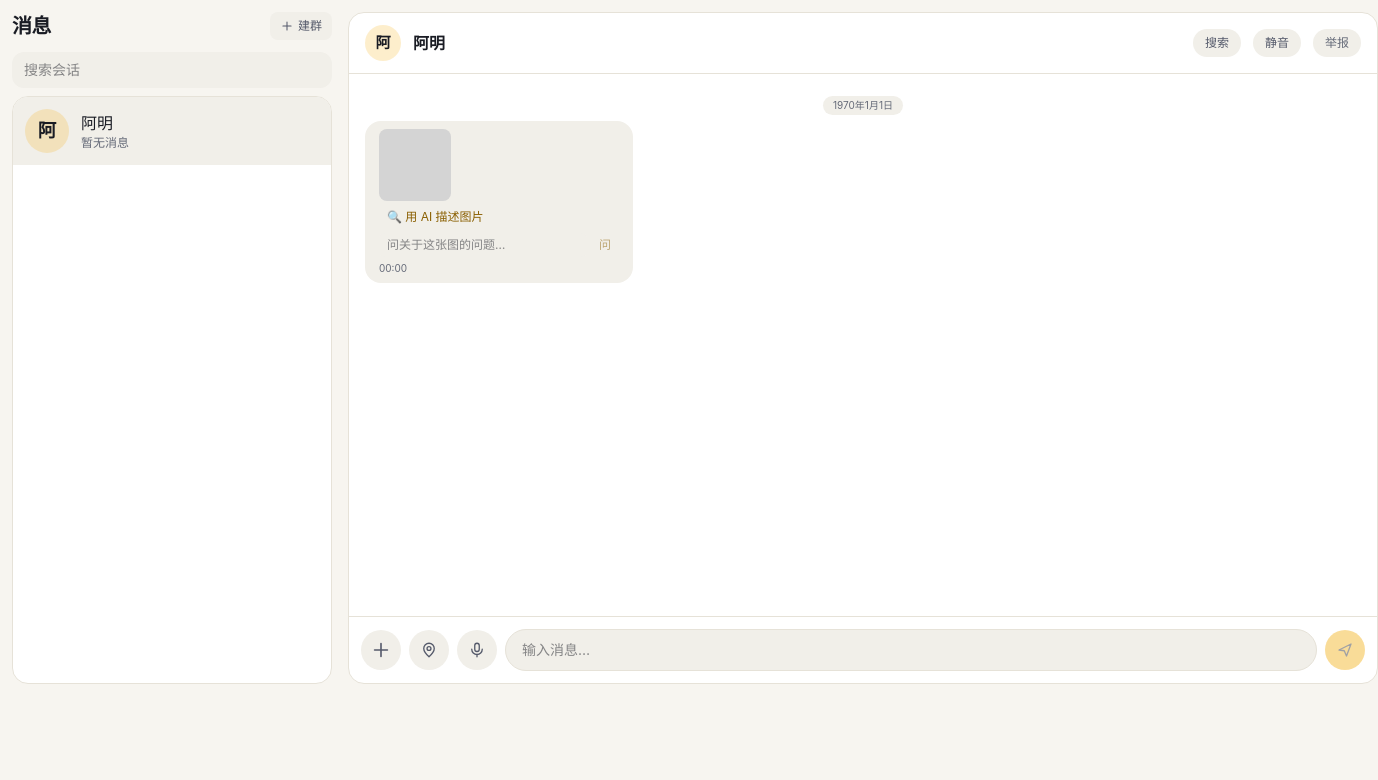
ChatPage 线程消息气泡渲染（防字段漂移：按 kind 渲染内容） › 连续追问（对话式 VQA）：第二问把首轮 Q&A 作为 history 送上，模型据上下文答追问（对标 Be My AI）
The image size is (1378, 780).
#  首轮：泛描述。
Click the button "🔍 用 AI 描述图片" at (435, 217), box top-left (379, 205), bottom-right (492, 229)
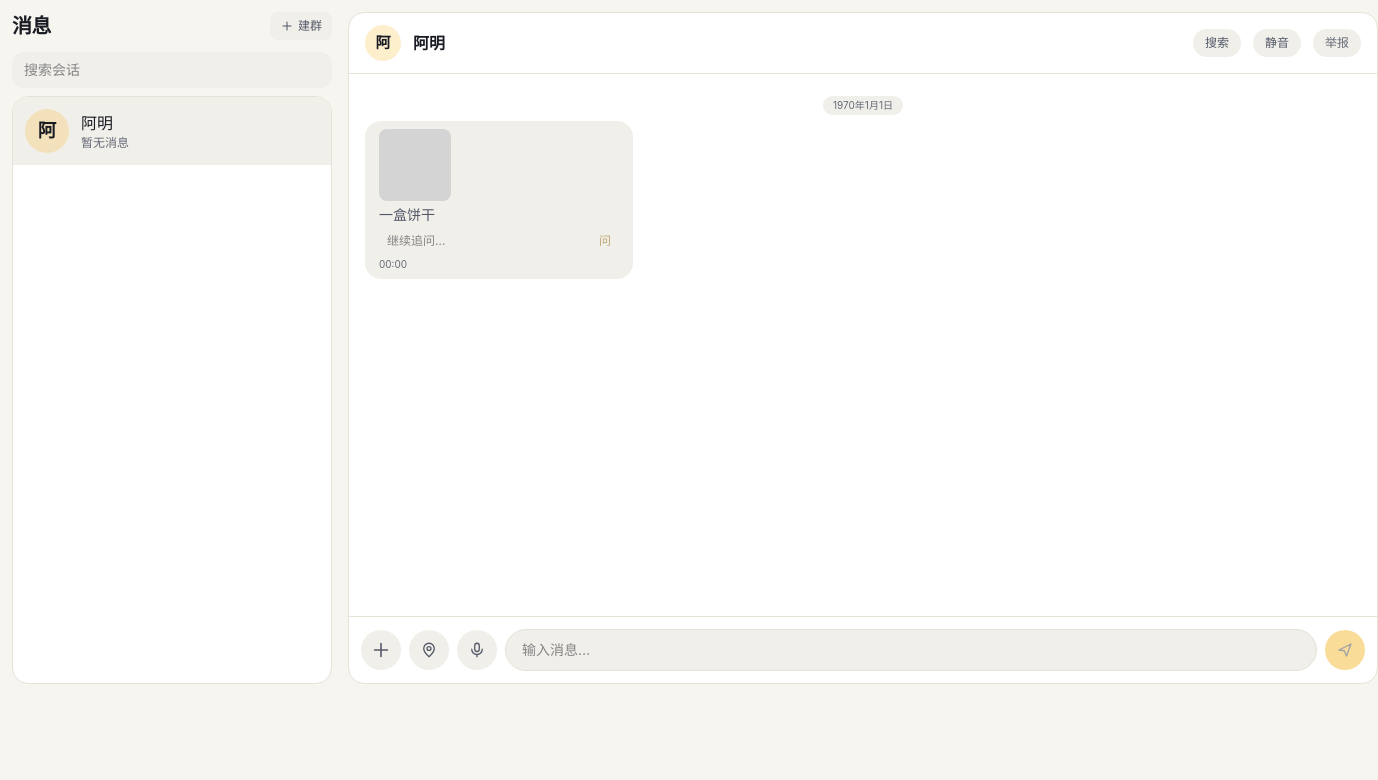
expect the text "一盒饼干" is shown: met, box top-left (379, 206), bottom-right (435, 223)
# 第二轮：追问"多少钱" → history 带首轮（泛描述记为默认问句 + 答"一盒饼干"）。
Type "多少钱" into the field named "继续向 AI 追问这张图片" at (483, 241), box top-left (379, 229), bottom-right (587, 253)
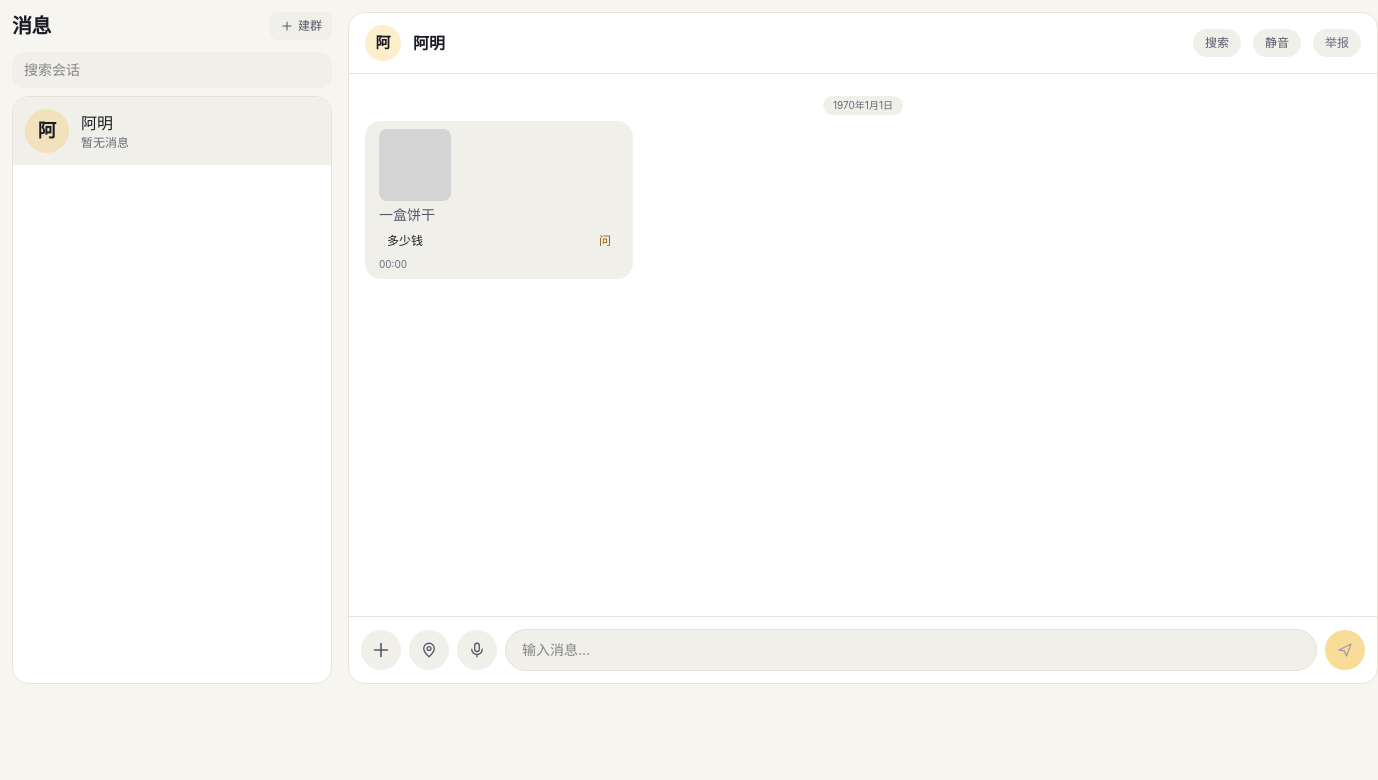
Click the button "问" at (605, 241), box top-left (591, 229), bottom-right (619, 253)
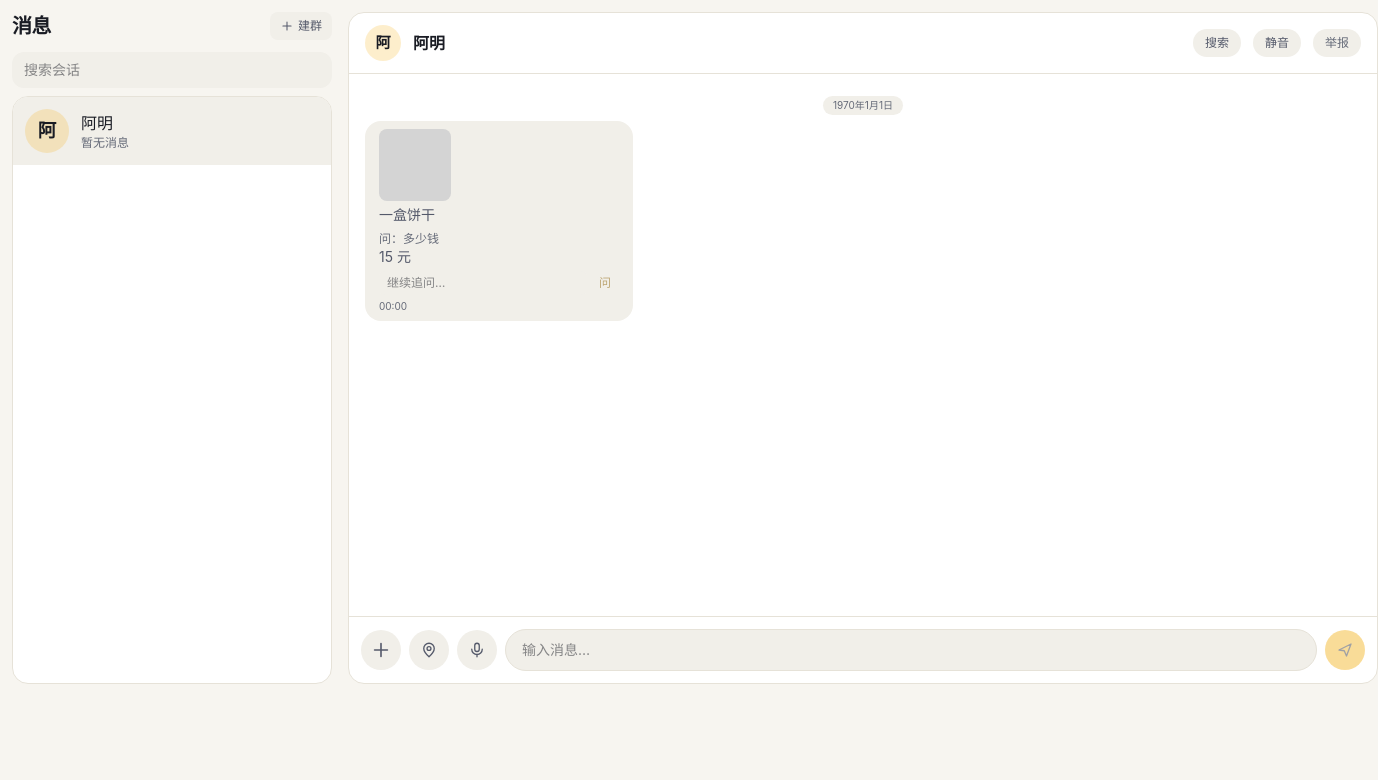
expect the text "一盒饼干" is shown: met, box top-left (379, 206), bottom-right (435, 223)
expect the text "15 元" is shown: met, box top-left (379, 248), bottom-right (411, 265)
